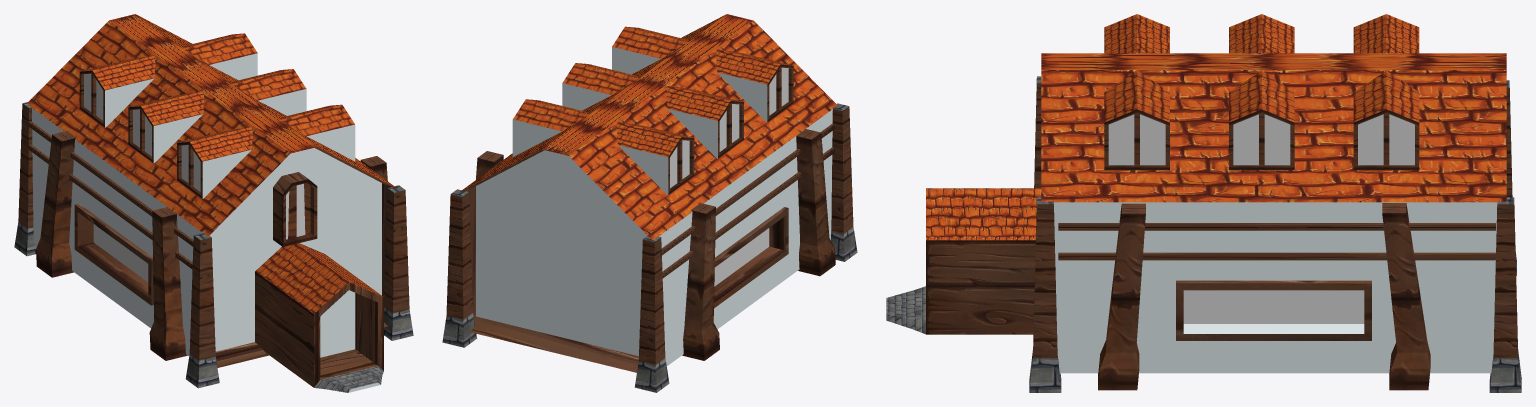
The model's file is Auberge.dae.
3 views of the same model, side by side, from view 1: azimuth 30°, elevation 25°; view 2: azimuth 150°, elevation 25°; view 3: azimuth 270°, elevation 25° (orthographic). The views are drawn at different scales.
Visible parts, largest first — view 1: Cube, Cube.009, Cube.008, Cube.005, Cube.004, Cube.007, Cube.003, Cube.001; view 2: Cube, Cube.009, Cube.006, Cube.007, Cube.008, Cube.003, Cube.001; view 3: Cube, Cube.001, Cube.002, Cube.006, Cube.005, Cube.008, Cube.007.
Boxes of the visible parts, x1,y1,x2,y2 form: Cube: (27, 14, 398, 392); Cube.009: (36, 131, 187, 360); Cube.008: (185, 233, 219, 388); Cube.005: (383, 185, 413, 340); Cube.004: (273, 172, 317, 246); Cube.007: (14, 102, 37, 256); Cube.003: (27, 120, 193, 269); Cube.001: (360, 156, 387, 180); Cube: (459, 14, 836, 372); Cube.009: (682, 129, 835, 360); Cube.006: (442, 189, 476, 347); Cube.007: (634, 236, 669, 392); Cube.008: (831, 103, 857, 261); Cube.003: (660, 123, 834, 278); Cube.001: (476, 151, 503, 179); Cube: (886, 14, 1506, 373); Cube.001: (1098, 203, 1430, 390); Cube.002: (1058, 223, 1495, 260); Cube.006: (1489, 197, 1521, 392); Cube.005: (1029, 197, 1061, 392); Cube.008: (1034, 76, 1041, 188); Cube.007: (1506, 80, 1516, 275).
Bounding box in the file's own units: 2.28 × 4.17 × 1.92.
5 materials, 3 textured.
